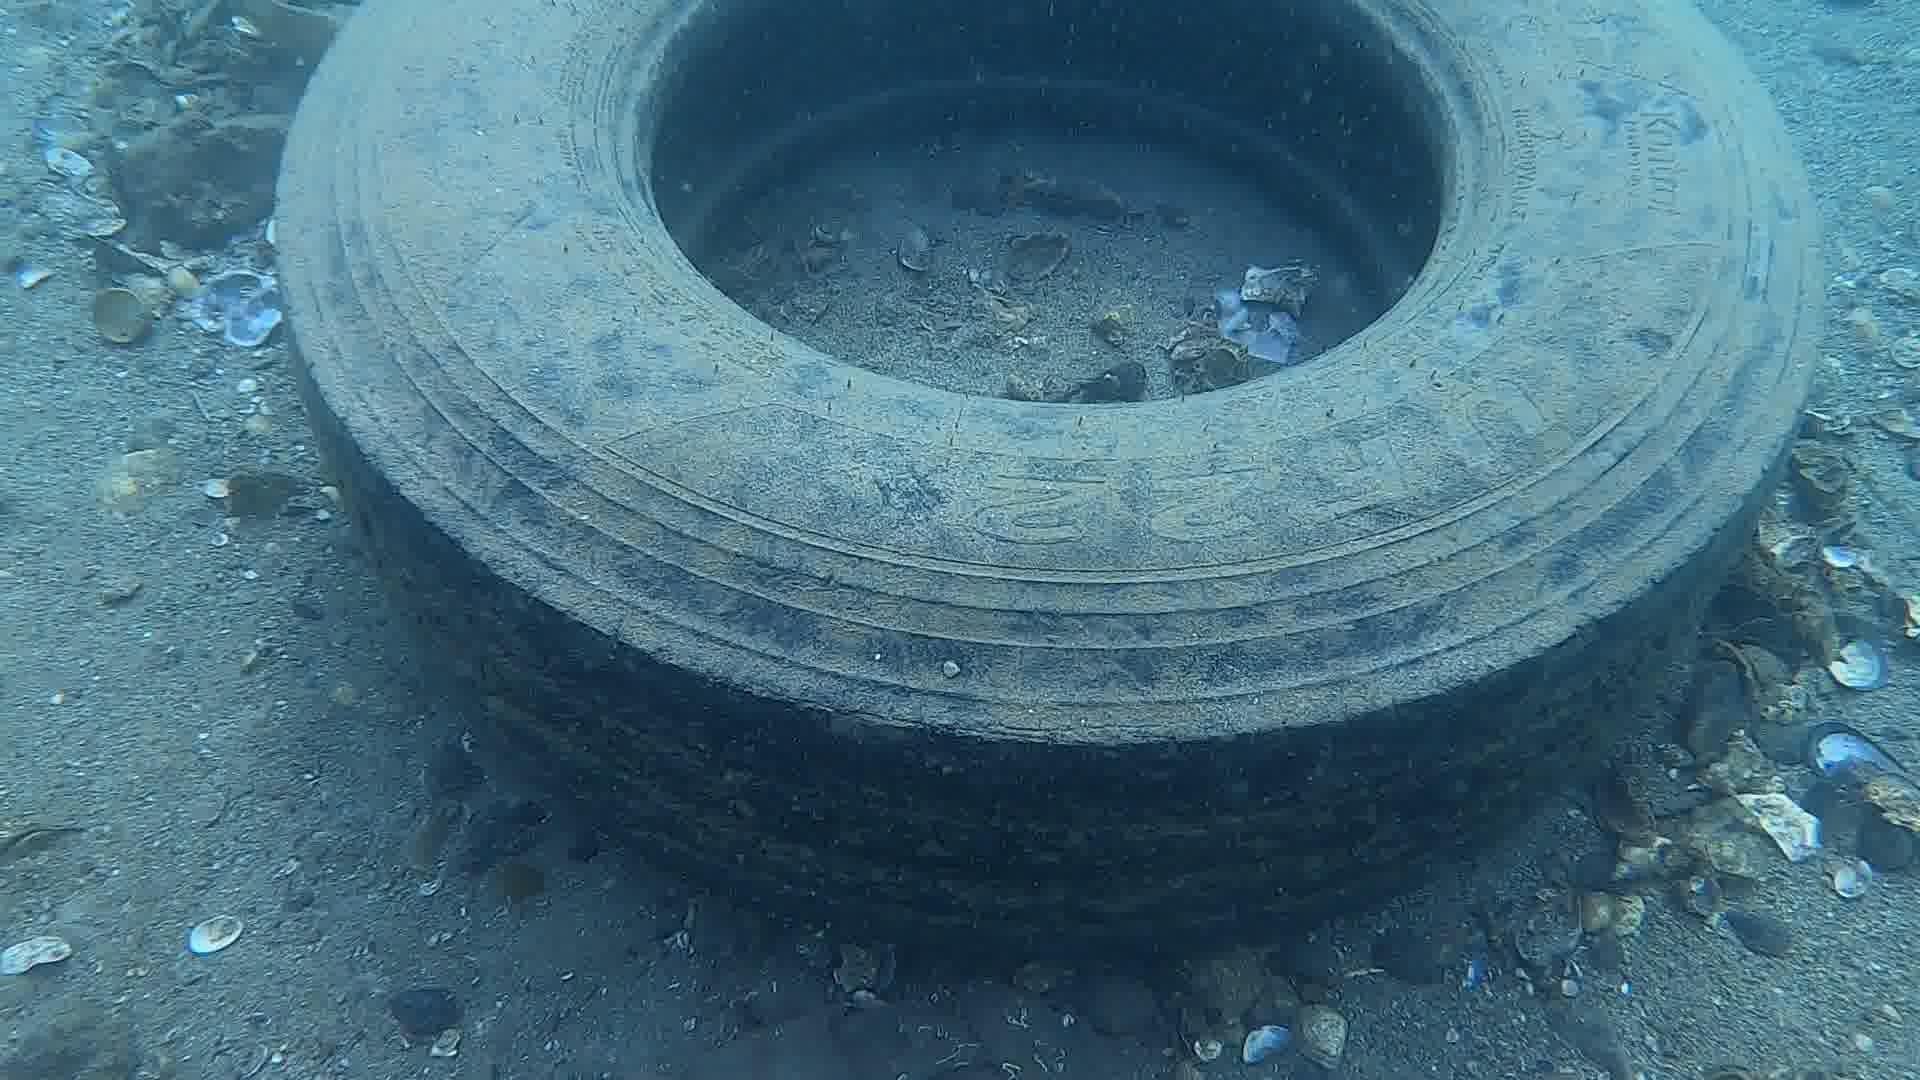tire: (272, 0, 1830, 959)
